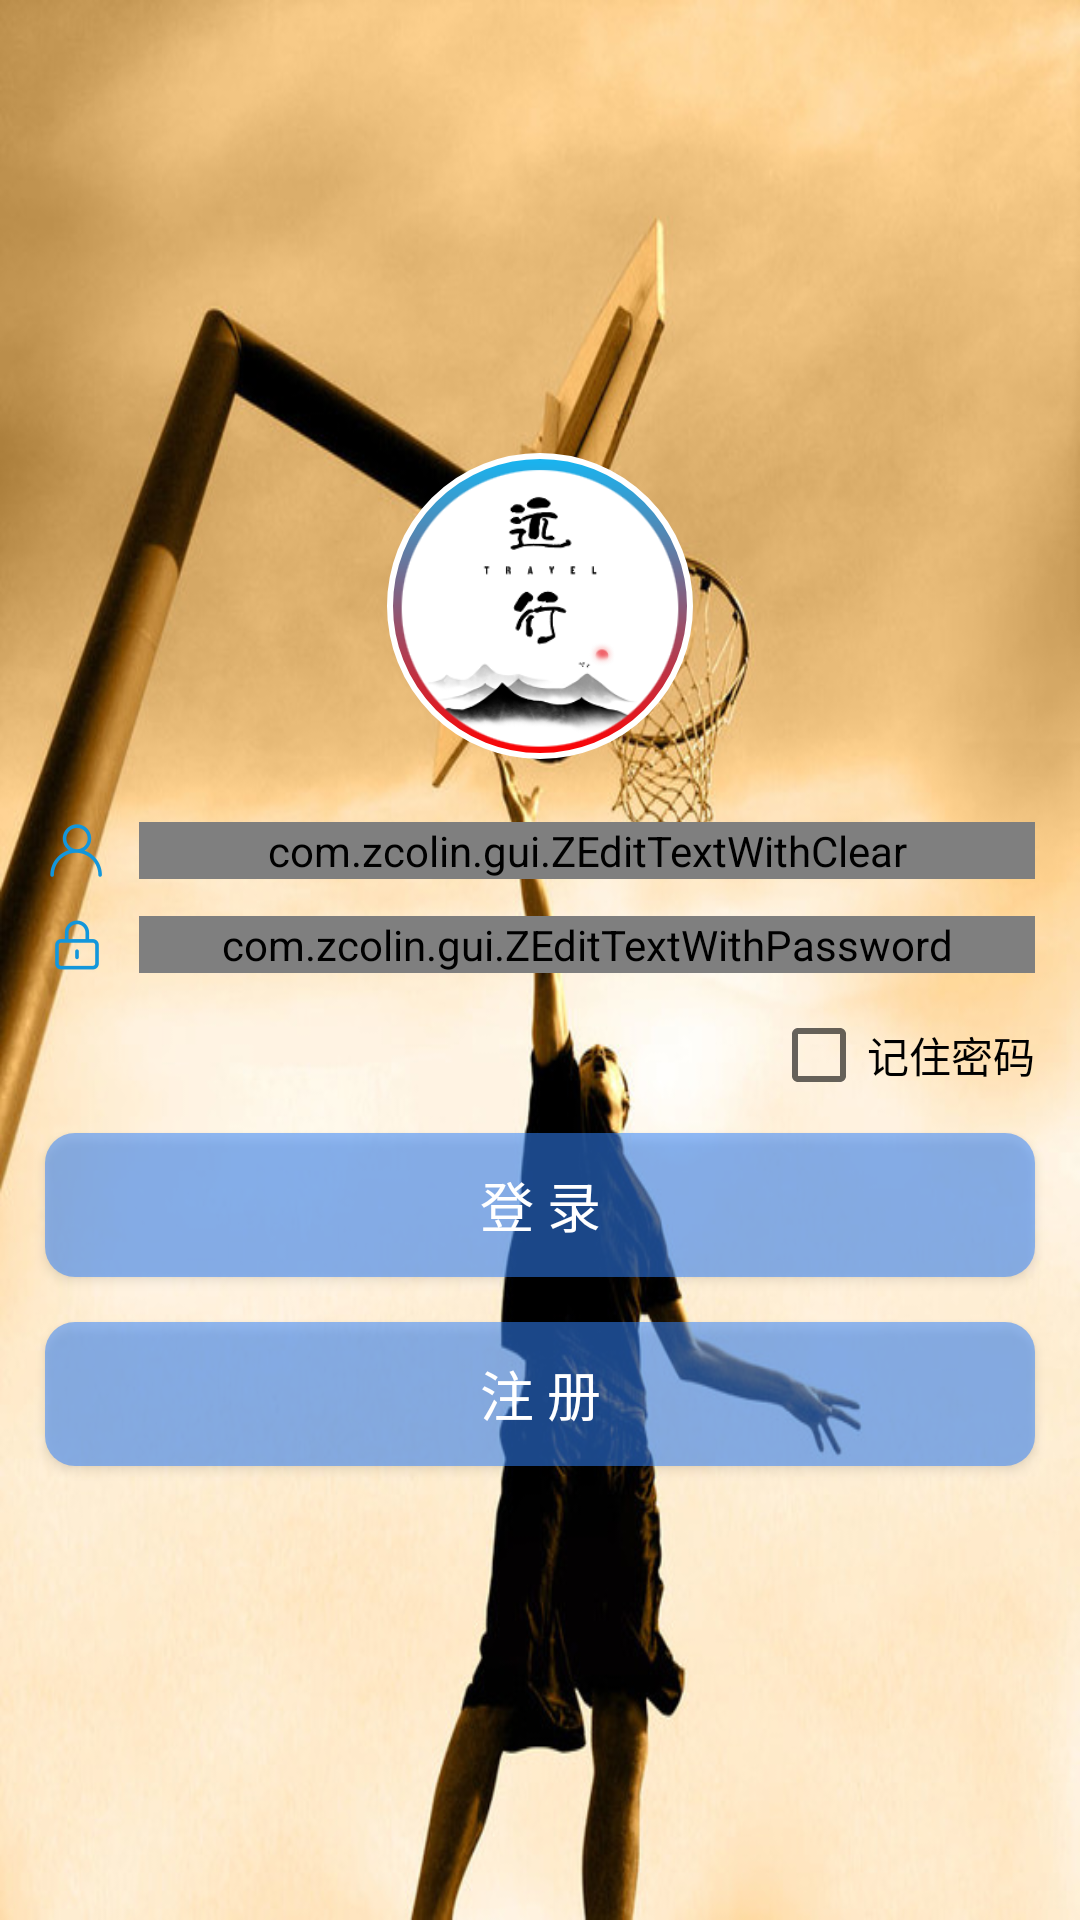

Point at icon controls on the screen. Image size 1080x1920, points as (x,y).
login name: (77,851)
login pwd: (77,945)
